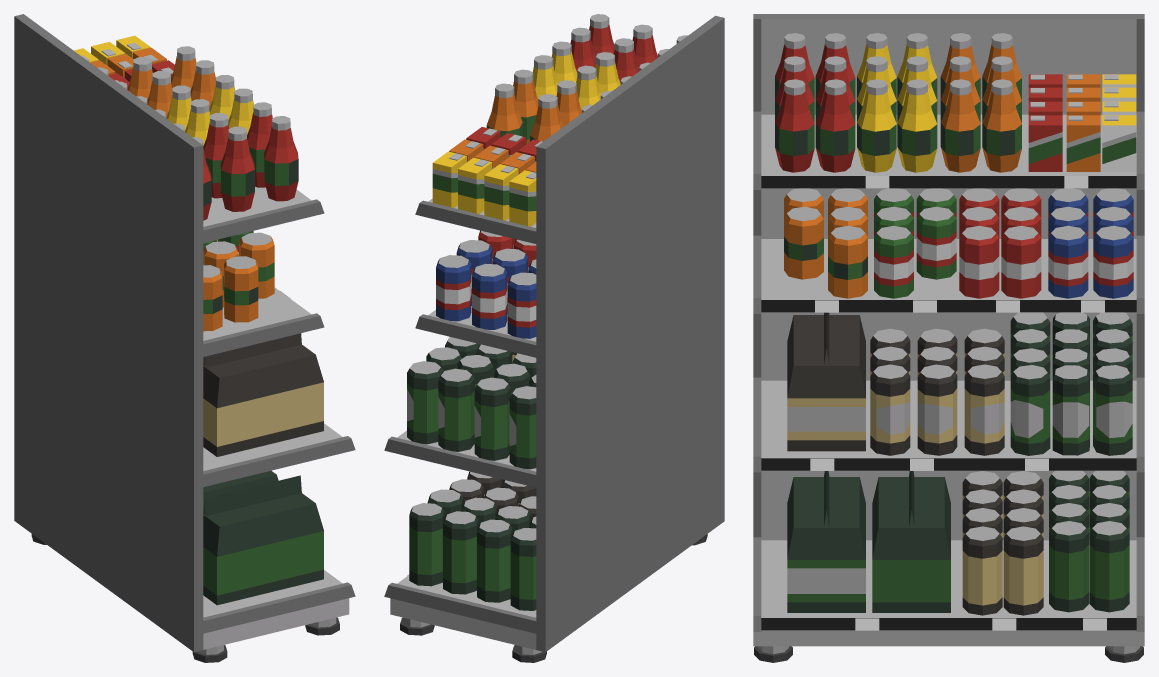
Rendered from SM_shopShelve_01.glb.
The picture shows the model from 3 angles, left to right: view 1: azimuth 30°, elevation 25°; view 2: azimuth 150°, elevation 25°; view 3: azimuth 270°, elevation 25°; orthographic projection. The views are drawn at different scales.
Visible parts, largest first — view 1: SM_shopShelve_01; view 2: SM_shopShelve_01; view 3: SM_shopShelve_01.
Part boxes in pixels (x1,y1,x2,y2): SM_shopShelve_01: (14, 14, 355, 662); SM_shopShelve_01: (384, 14, 724, 662); SM_shopShelve_01: (753, 14, 1144, 662).
Bounding box in the file's own units: 0.52 × 1.6 × 1.
Materials: 1 (1 with a texture image).
